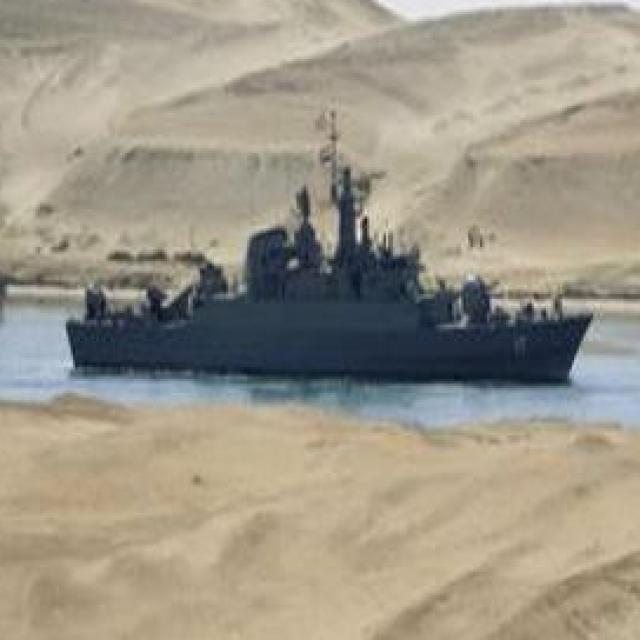navalvessels: (49, 140, 597, 375)
